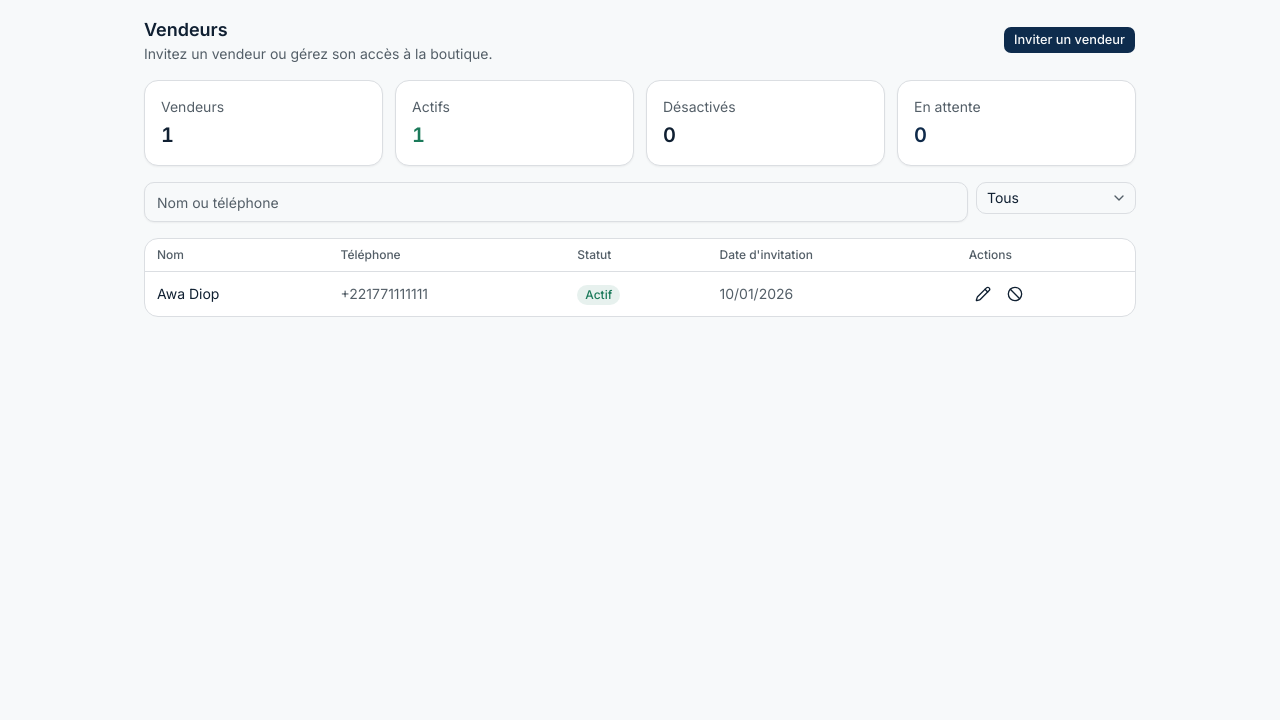
VendeursPanel › modifie le nom d'un vendeur via la modale d'édition, sans jamais toucher au téléphone
The width and height of the screenshot is (1280, 720).
Click the button named "Modifier" at coordinates (983, 294), box [969,280,997,308]
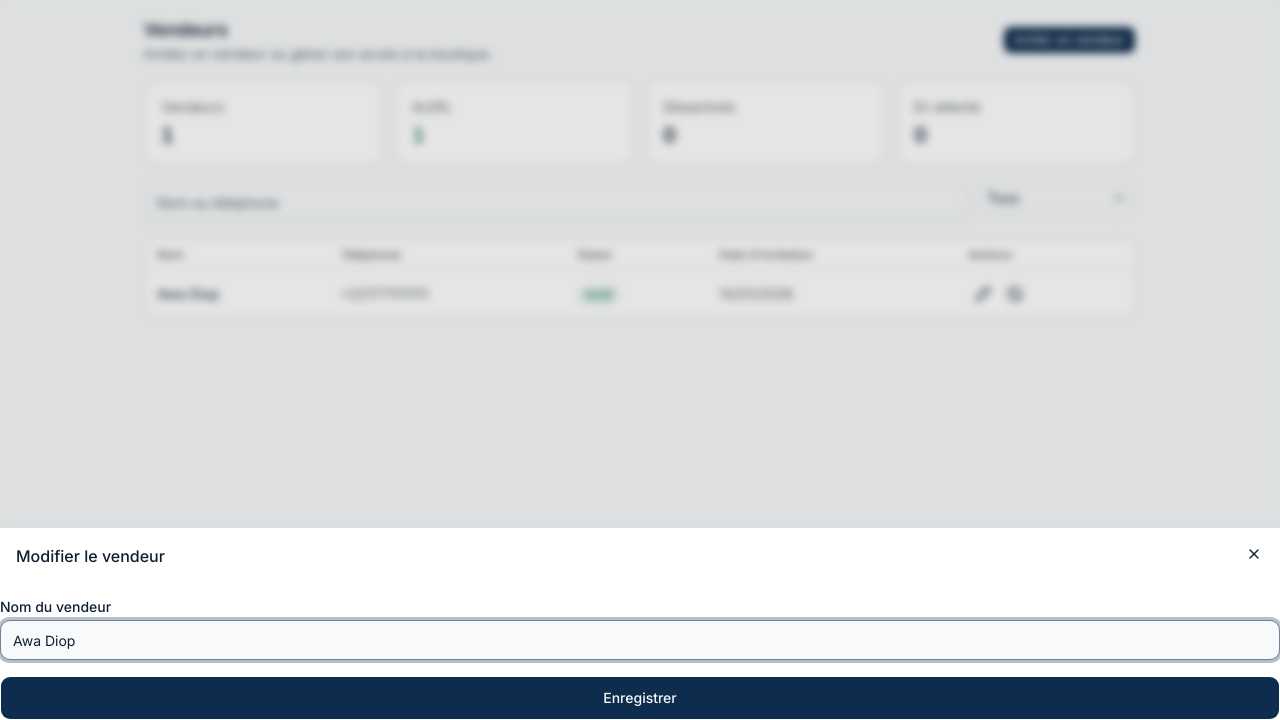
Replace the text in the field labelled "Nom du vendeur" with "Awa Diop Renommée" at coordinates (640, 640), box [0,620,1279,660]
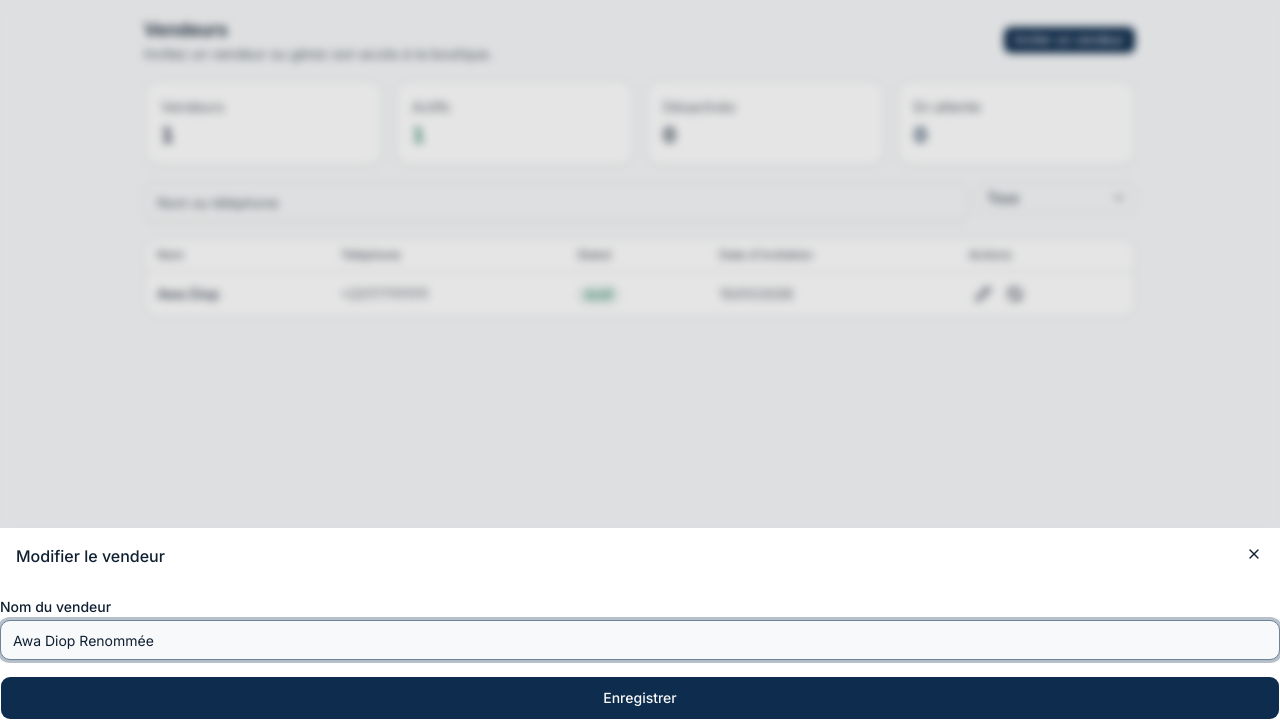
Click the button "Enregistrer" at coordinates (640, 698), box [0,676,1279,719]
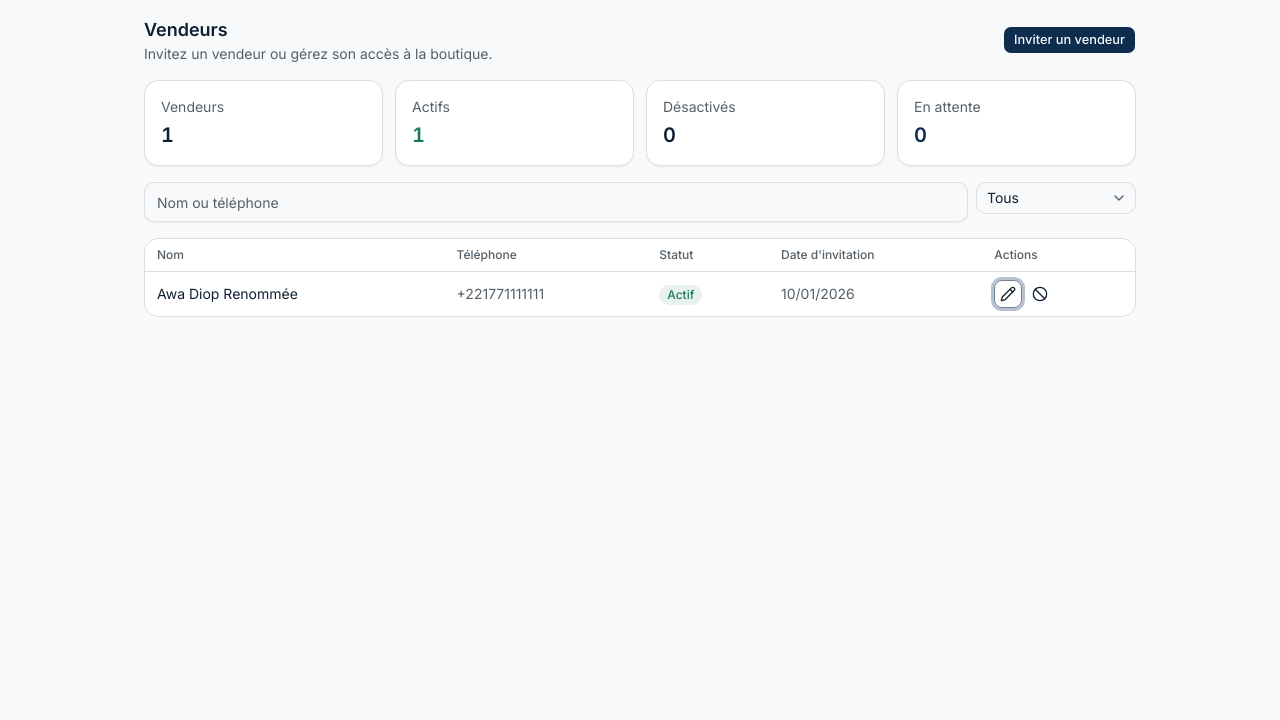
Expected: the text "Awa Diop Renommée" is shown, [145,272,445,316]
